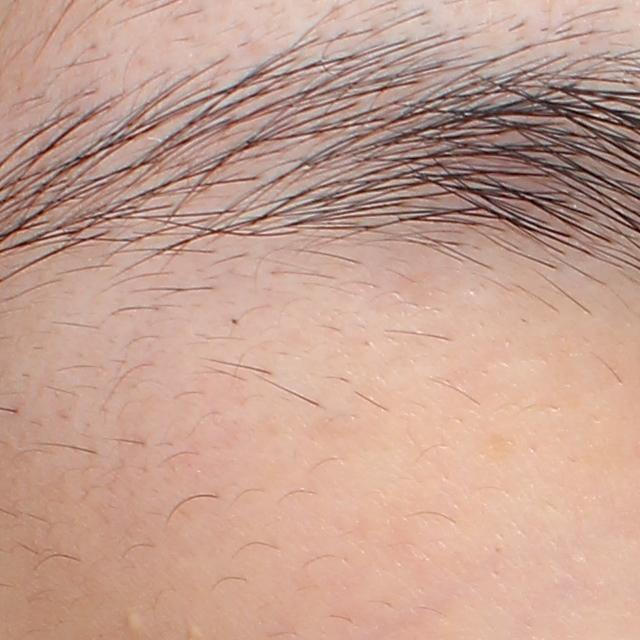other: (124, 613, 144, 633)
